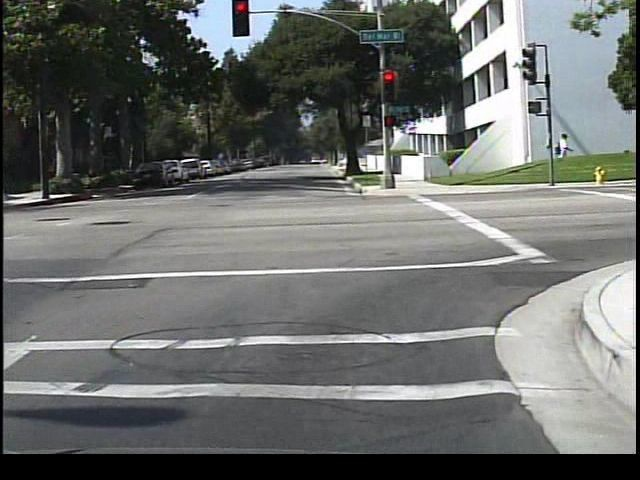person: (548, 126, 572, 176)
